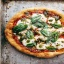basil: (39, 28, 62, 41), (29, 15, 48, 28), (11, 22, 30, 31), (25, 28, 36, 41)
pizza: (6, 7, 64, 58)
